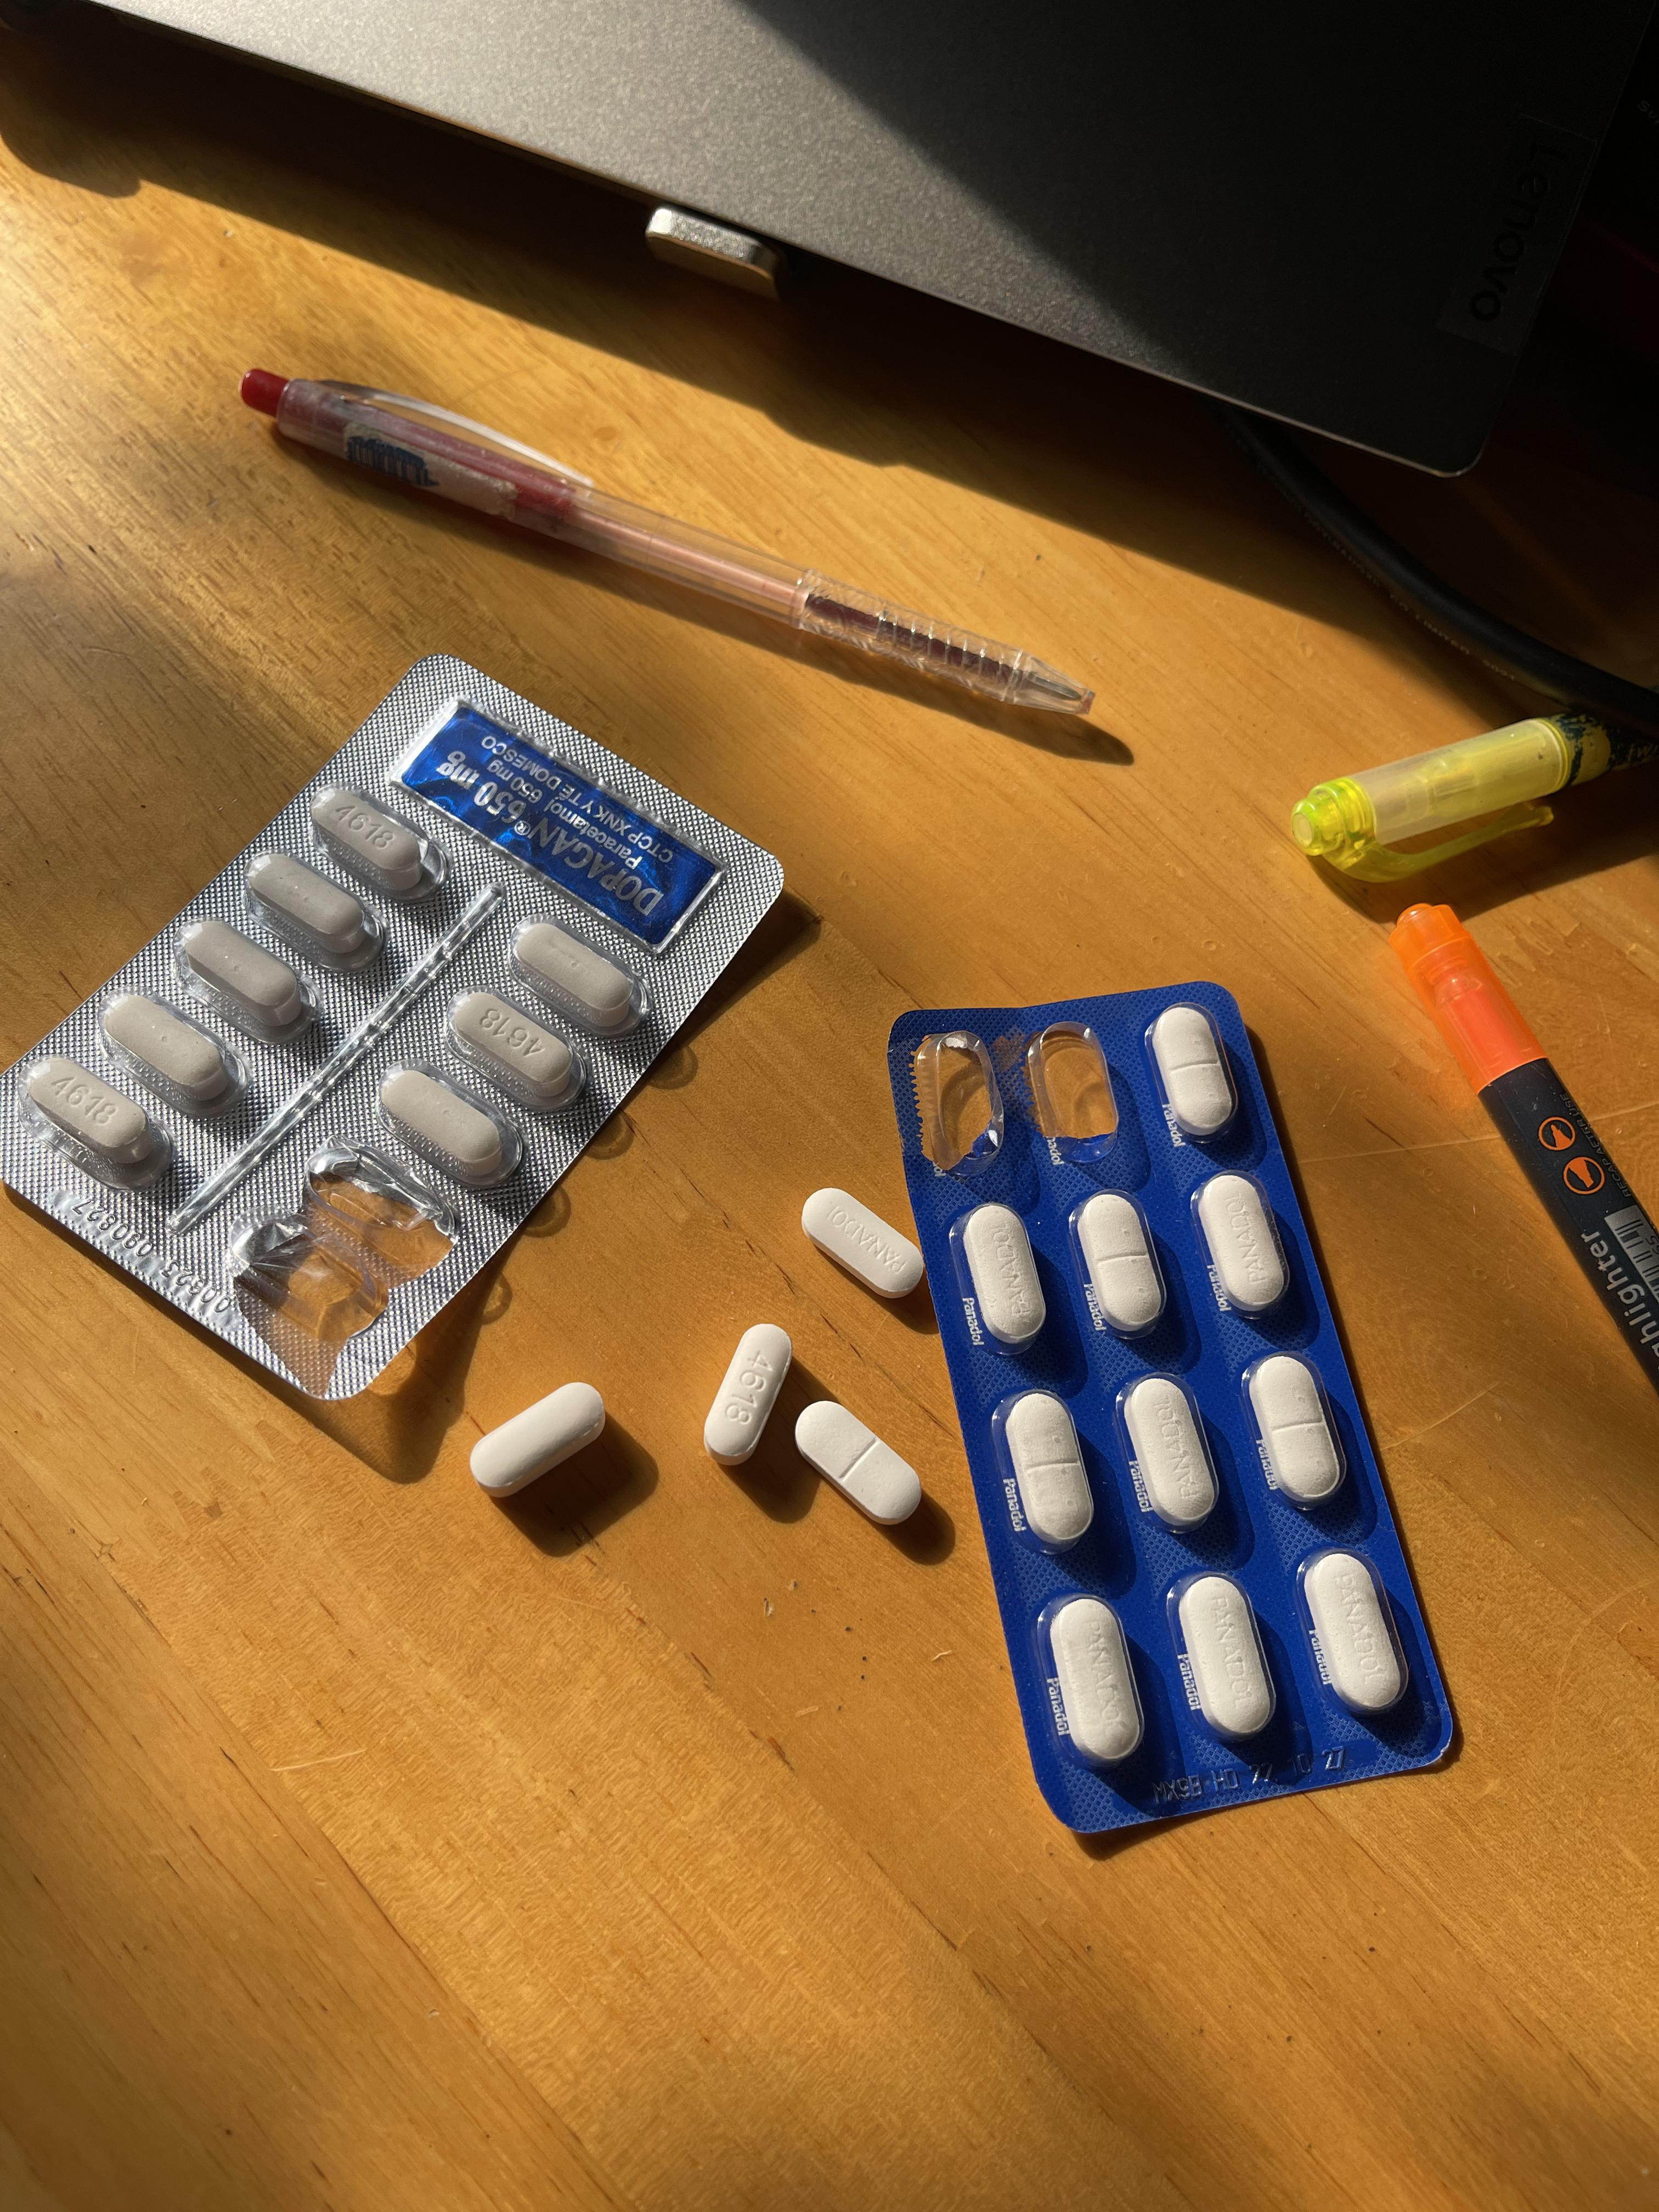Paracetamol_350mg: (1293, 1545, 1412, 1721), (1166, 1569, 1279, 1743), (1042, 1592, 1145, 1766), (1243, 1348, 1349, 1512), (1119, 1372, 1222, 1533), (795, 1397, 922, 1526), (1000, 1390, 1094, 1548), (1194, 1167, 1291, 1318), (1072, 1191, 1166, 1338), (798, 1188, 915, 1303), (1148, 1001, 1237, 1143), (958, 1202, 1046, 1345)
Paracetamol_500mg: (173, 916, 317, 1045), (446, 988, 591, 1109), (101, 991, 239, 1115), (509, 916, 643, 1038), (376, 1066, 512, 1186), (247, 853, 383, 968), (469, 1381, 606, 1494), (310, 789, 439, 904), (21, 1057, 146, 1165), (709, 1325, 798, 1461)
